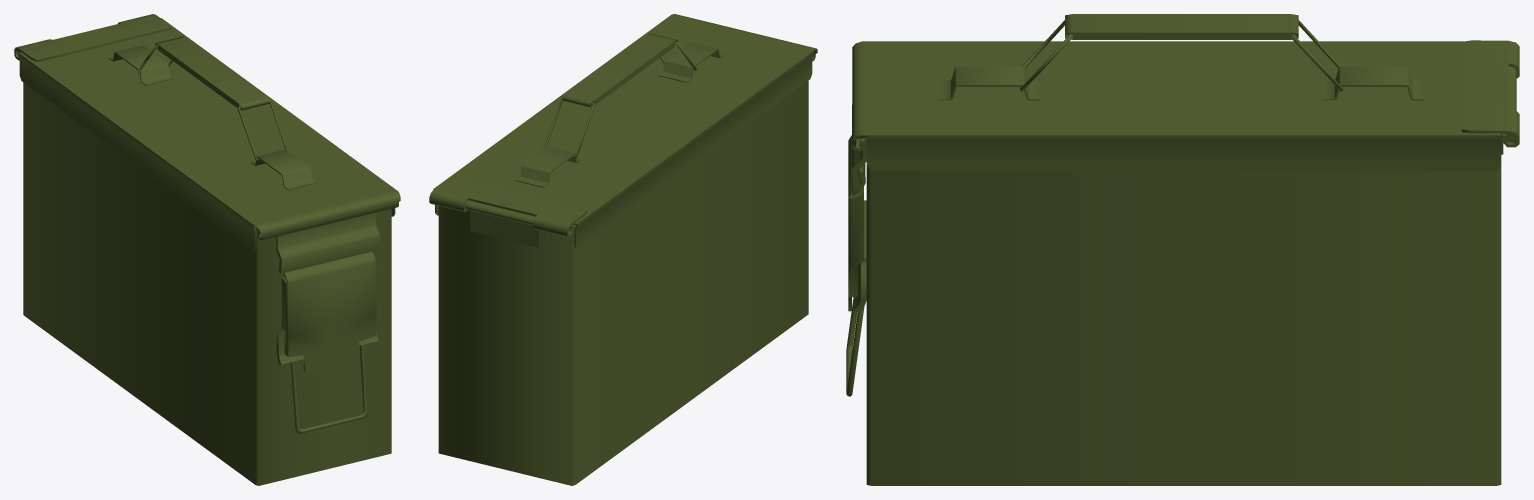
Rendered from ammo case.fbx.
3 views of the same model, side by side, from view 1: azimuth 30°, elevation 25°; view 2: azimuth 150°, elevation 25°; view 3: azimuth 270°, elevation 25° (orthographic). The views are drawn at different scales.
Parts seen in each view (by area): view 1: ammotin_762; view 2: ammotin_762; view 3: ammotin_762.
Part boxes in pixels (x1,y1,x2,y2): ammotin_762: (14,14,400,485); ammotin_762: (429,14,817,485); ammotin_762: (846,14,1519,485).
Bounding box in the file's own units: 13.57 × 28.33 × 41.1.
